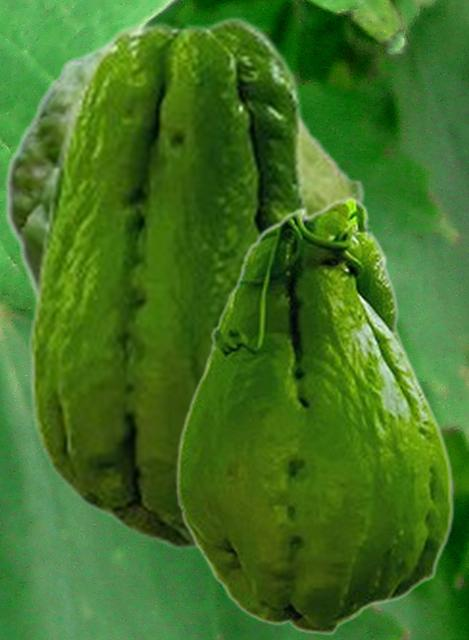sayote: (29, 15, 313, 550), (175, 196, 454, 635), (4, 41, 371, 306)
